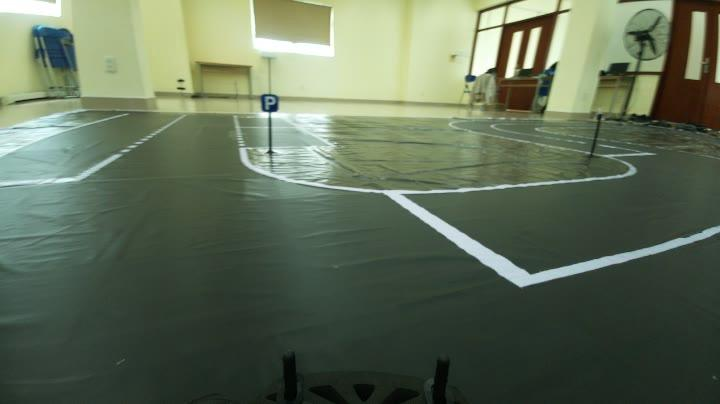parking: (260, 92, 282, 116)
